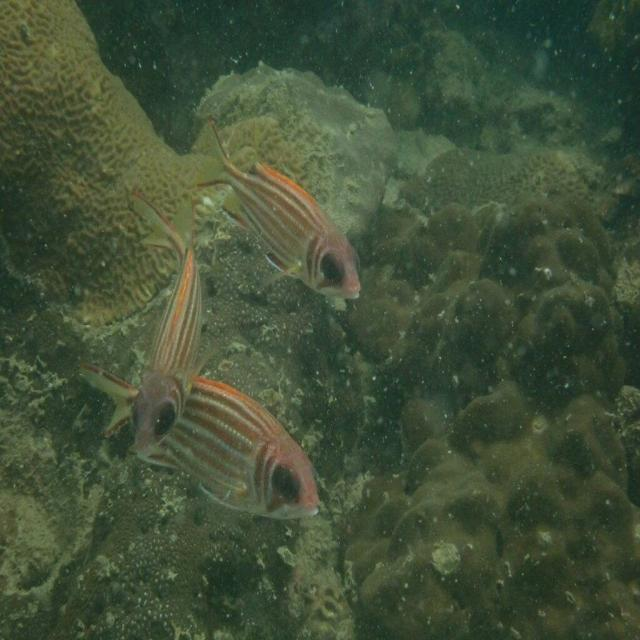Asker Baligi: (77, 188, 322, 522), (195, 114, 362, 303)
